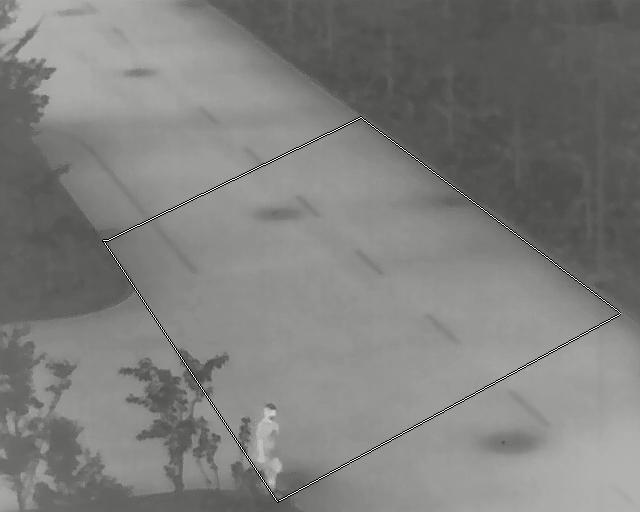person: (252, 402, 282, 495)
